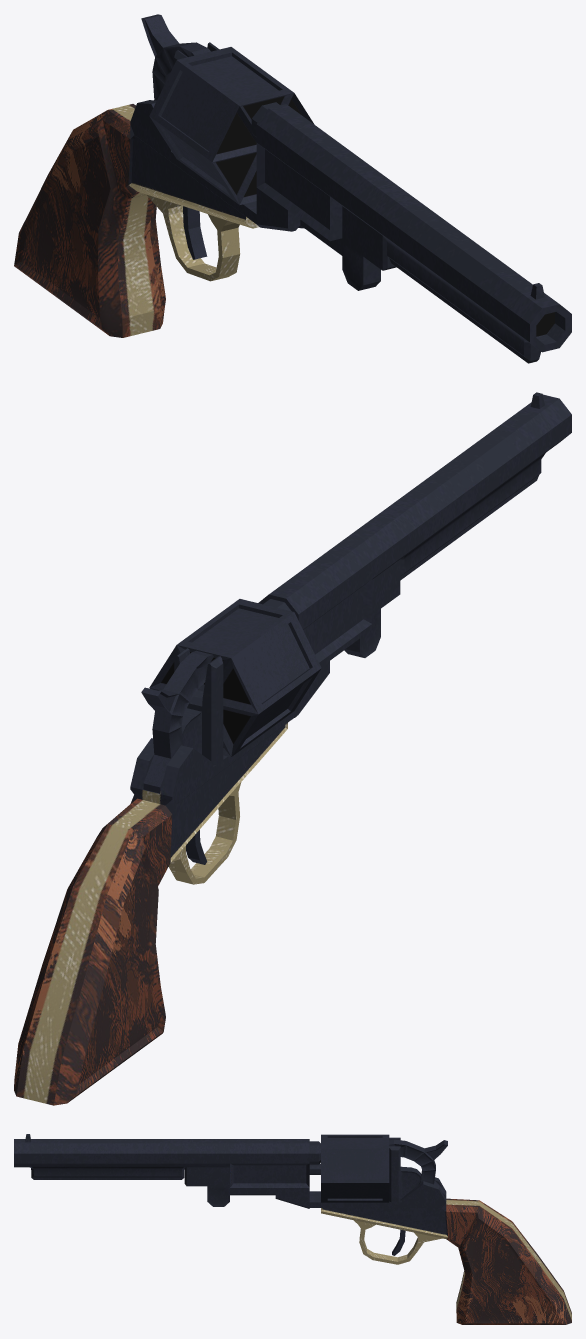
Rendered from revolver.fbx.
3 views of the same model, one above another, from view 1: azimuth 30°, elevation 25°; view 2: azimuth 150°, elevation 25°; view 3: azimuth 270°, elevation 25° (orthographic). The views are drawn at different scales.
Visible parts, largest first — view 1: revolver_body, revolver_cylinder, revolver_hammer, revolver_trigger; view 2: revolver_body, revolver_cylinder, revolver_hammer; view 3: revolver_body, revolver_cylinder, revolver_hammer.
Part boxes in pixels (x1,y1,x2,y2): revolver_body: (14,42,571,363); revolver_cylinder: (149,47,314,204); revolver_hammer: (141,14,210,100); revolver_trigger: (183,206,207,259); revolver_body: (14,392,571,1105); revolver_cylinder: (149,599,321,756); revolver_hammer: (141,650,213,793); revolver_body: (14,1134,571,1324); revolver_cylinder: (321,1134,389,1202); revolver_hammer: (389,1139,447,1197).
Bounding box in the file's own units: 6 × 17.77 × 49.06.
3 materials, 3 textured.
